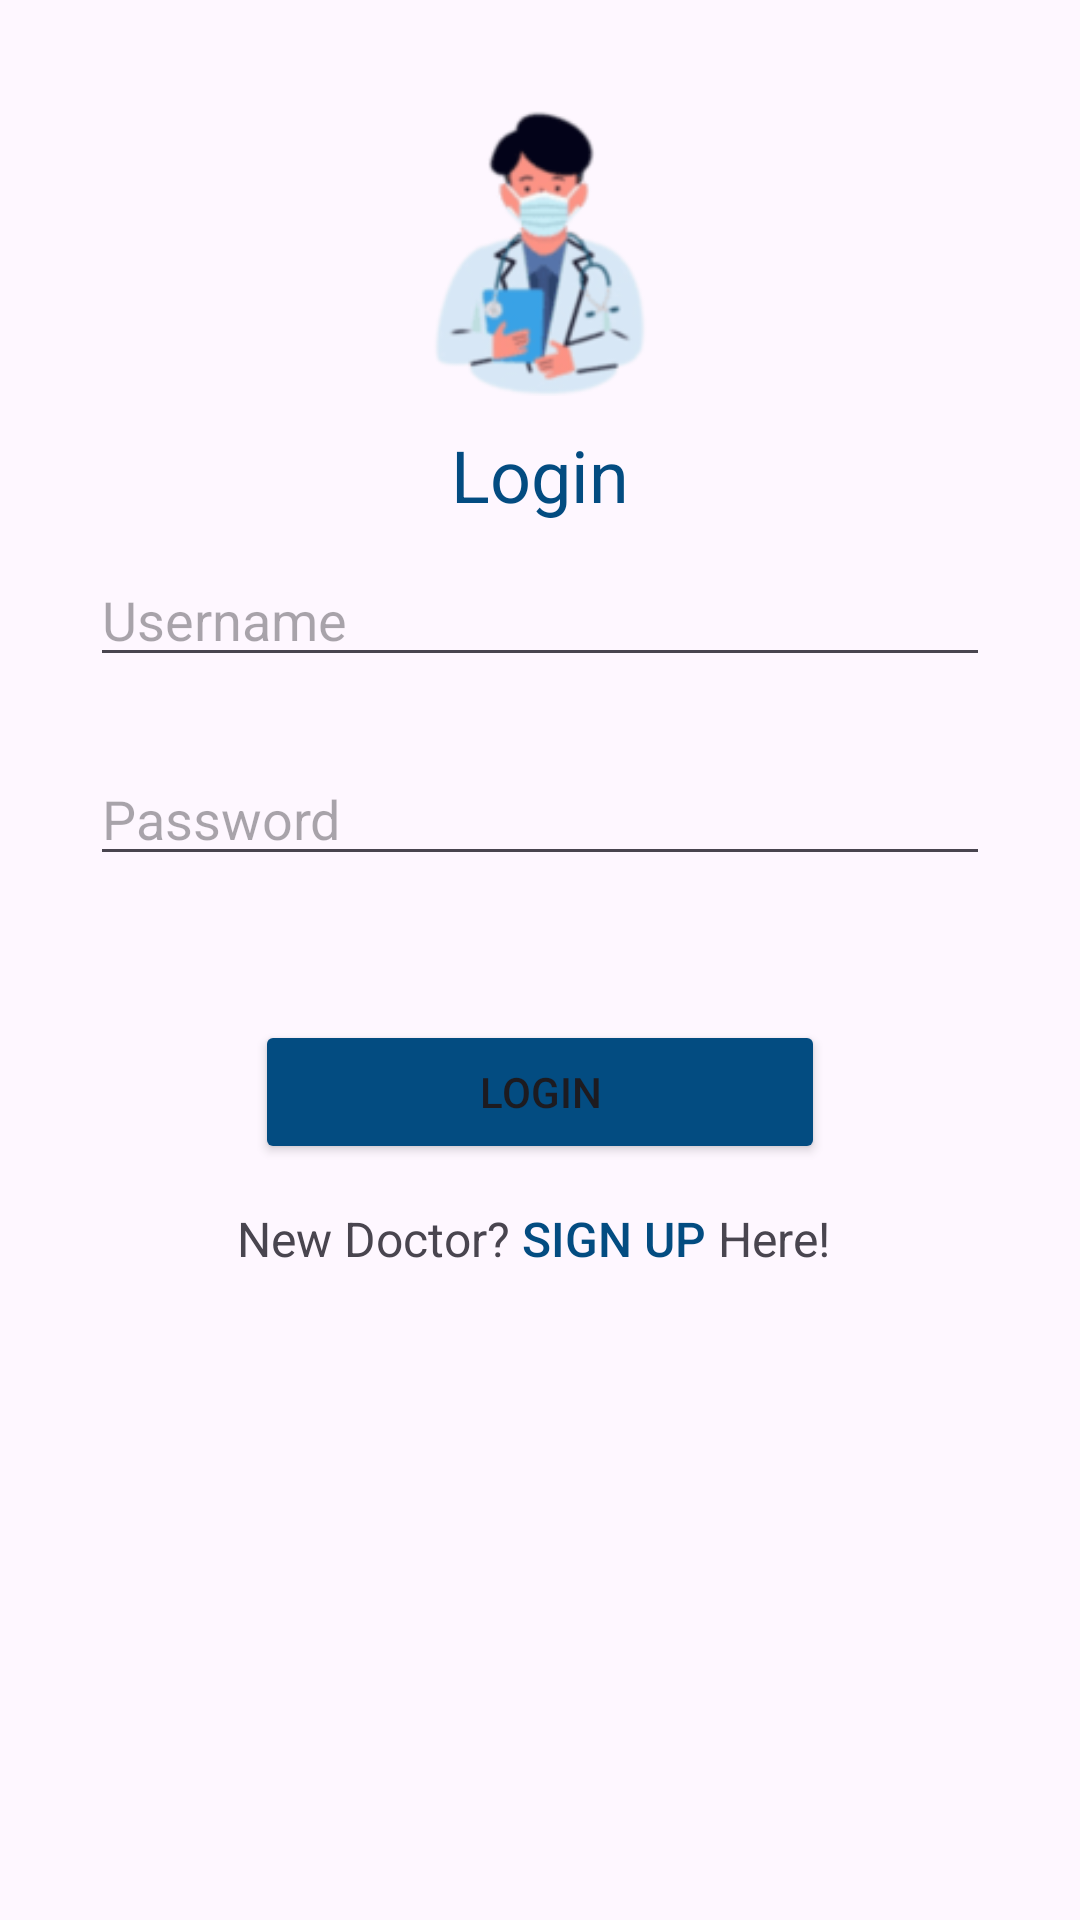

Icon bounding boxes for this 1080×1920 phone screenshot, format (x1,y1,x2,y2):
doctor: (437,112,643,393)
